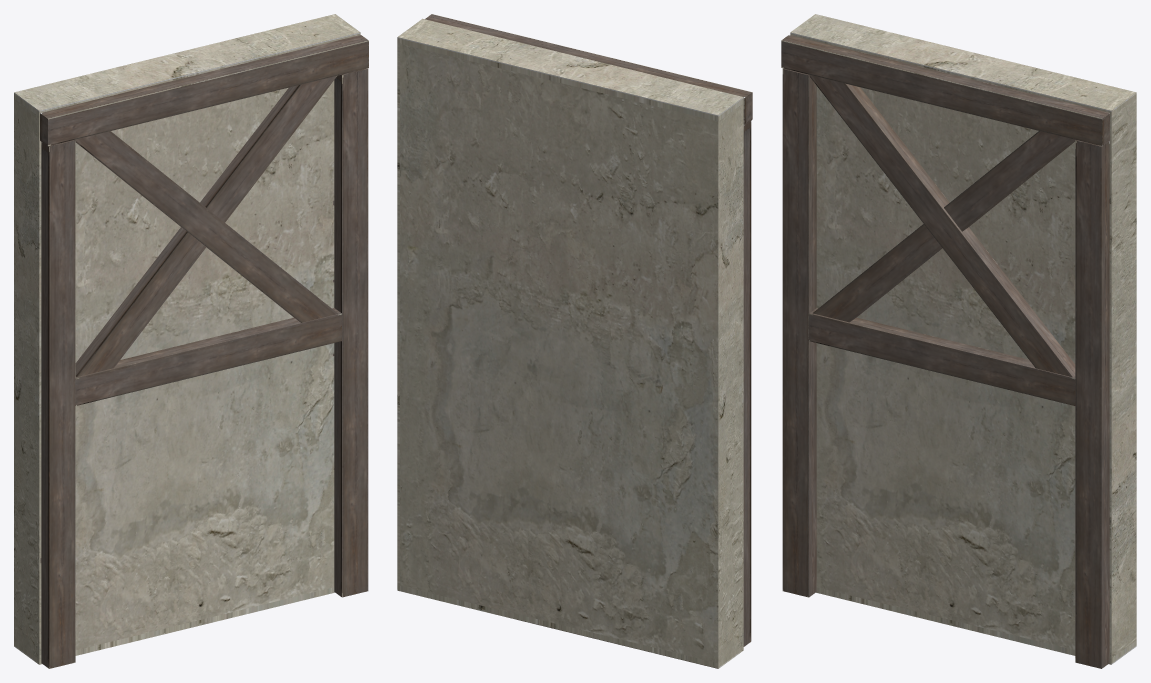
File: pared_1_c.fbx
The picture shows the model from 3 angles, left to right: view 1: azimuth 30°, elevation 25°; view 2: azimuth 150°, elevation 25°; view 3: azimuth 330°, elevation 25°; orthographic projection.
Visible parts, largest first — view 1: pared_1_c; view 2: pared_1_c; view 3: pared_1_c.
Part boxes in pixels (x1,y1,x2,y2): pared_1_c: [14, 14, 368, 668]; pared_1_c: [397, 14, 752, 668]; pared_1_c: [781, 14, 1136, 668].
Bounding box in the file's own units: 300 × 494 × 55.
